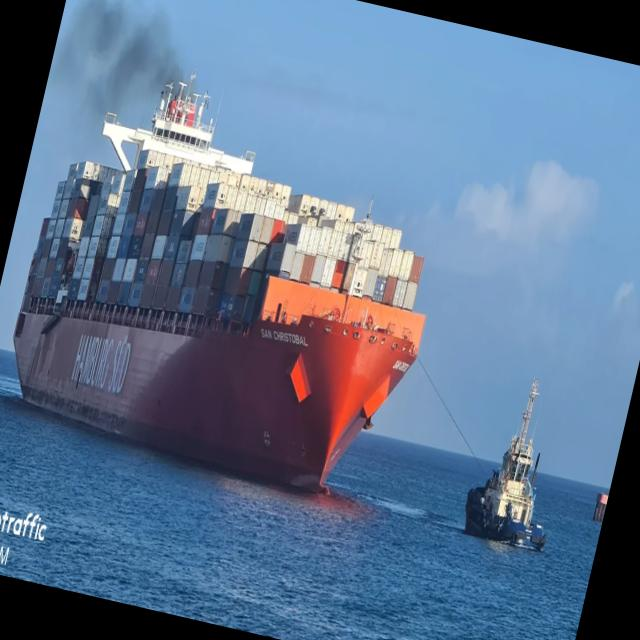Cargo: (13, 82, 424, 490)
Tug: (464, 378, 546, 551)
